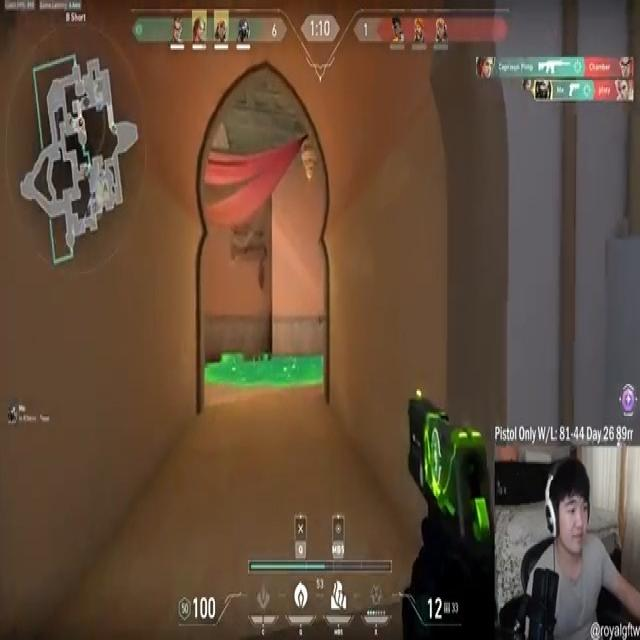molly: (208, 357, 326, 388)
